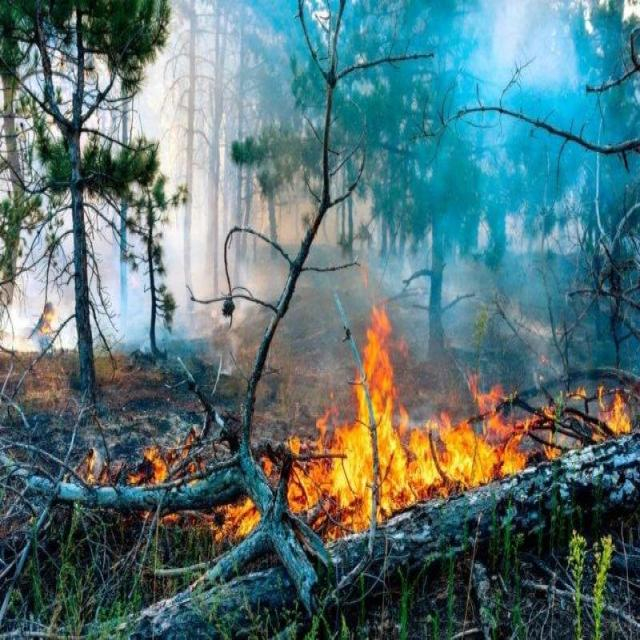fire: (316, 405, 513, 508)
